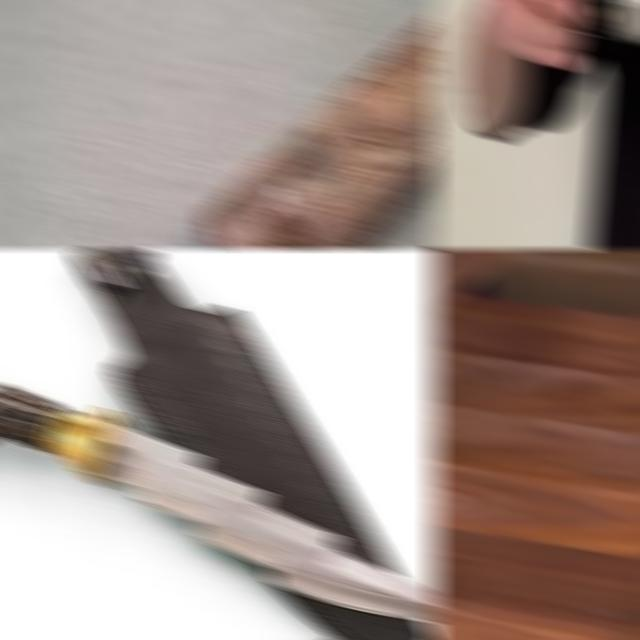Knife: (0, 381, 440, 625)
Knife_Handle: (485, 0, 640, 99)
